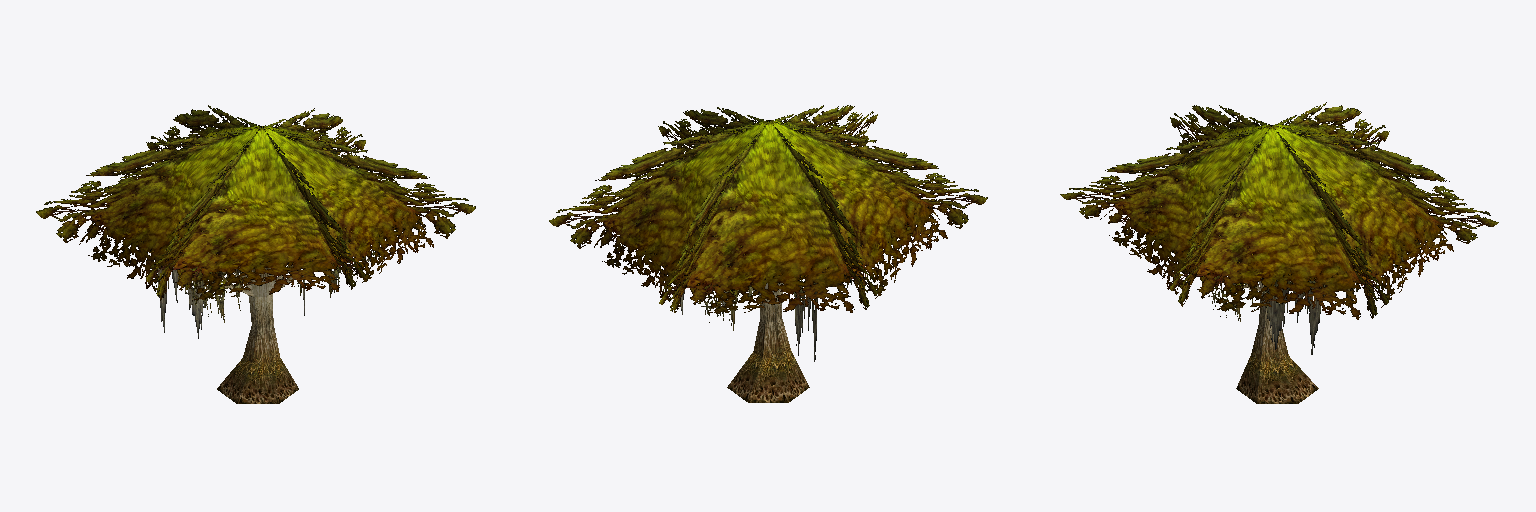
3 views of the same model, side by side, from view 1: azimuth 30°, elevation 25°; view 2: azimuth 150°, elevation 25°; view 3: azimuth 270°, elevation 25° (orthographic).
Parts seen in each view (by area): view 1: SwampSorrowCanopyTree02; view 2: SwampSorrowCanopyTree02; view 3: SwampSorrowCanopyTree02.
Boxes of the visible parts, <box> form: SwampSorrowCanopyTree02: <box>36,105,475,403</box>; SwampSorrowCanopyTree02: <box>549,105,987,402</box>; SwampSorrowCanopyTree02: <box>1060,102,1498,403</box>.
Size of the model in its own units: 63 by 47.3 by 72.59.
3 materials, 3 textured.